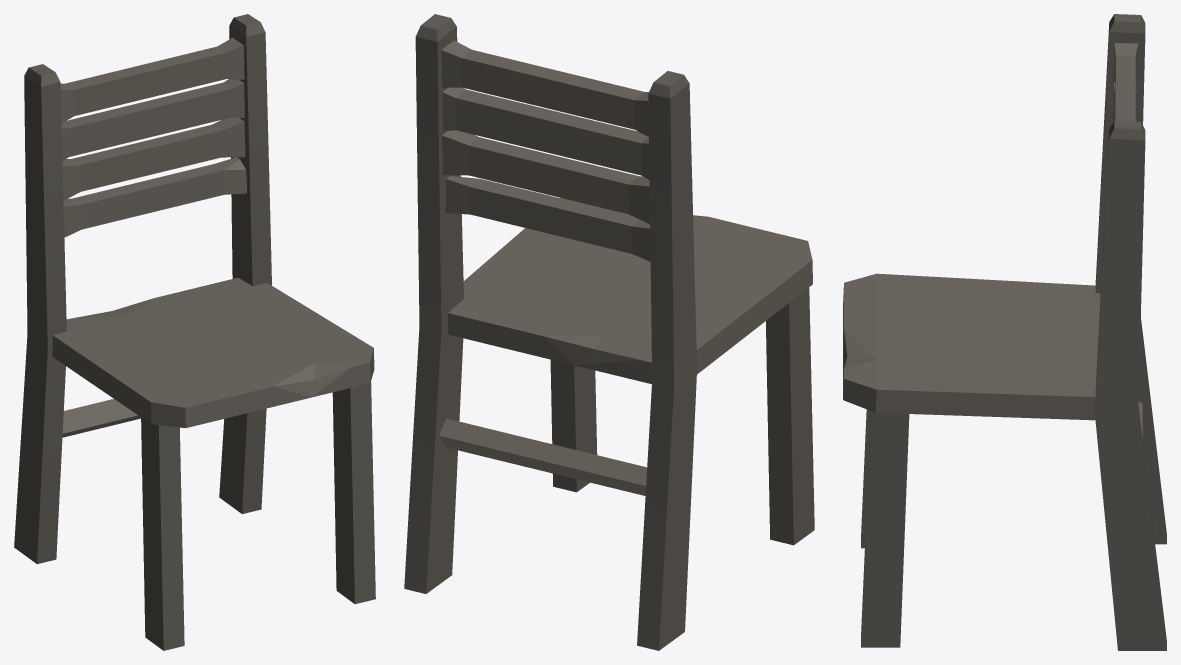
Rendered from SM_Prop_Chair_03.fbx.
3 renders of one model, left to right at view 1: azimuth 30°, elevation 25°; view 2: azimuth 150°, elevation 25°; view 3: azimuth 270°, elevation 25°, orthographic. The views are drawn at different scales.
Parts seen in each view (by area): view 1: SM_Prop_Chair_03; view 2: SM_Prop_Chair_03; view 3: SM_Prop_Chair_03.
Boxes of the visible parts, x1=… form: SM_Prop_Chair_03: x1=14, y1=14, x2=375, y2=650; SM_Prop_Chair_03: x1=404, y1=14, x2=814, y2=650; SM_Prop_Chair_03: x1=843, y1=14, x2=1166, y2=650.
Size of the model in its own units: 46.87 by 97.59 by 54.92.
